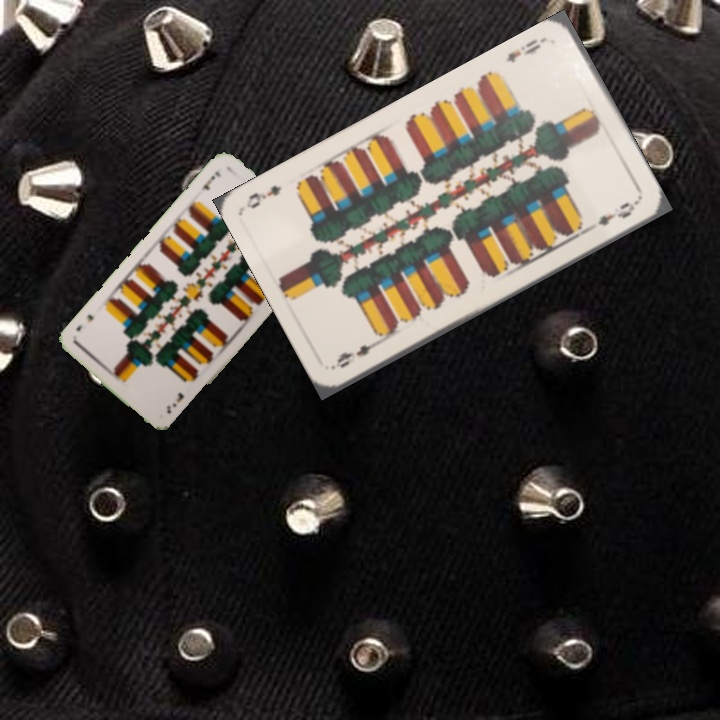E7: (197, 166, 224, 194), (162, 388, 187, 416)
E9: (331, 330, 385, 371), (502, 33, 550, 66)
